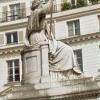Statue: (21, 1, 87, 80)
